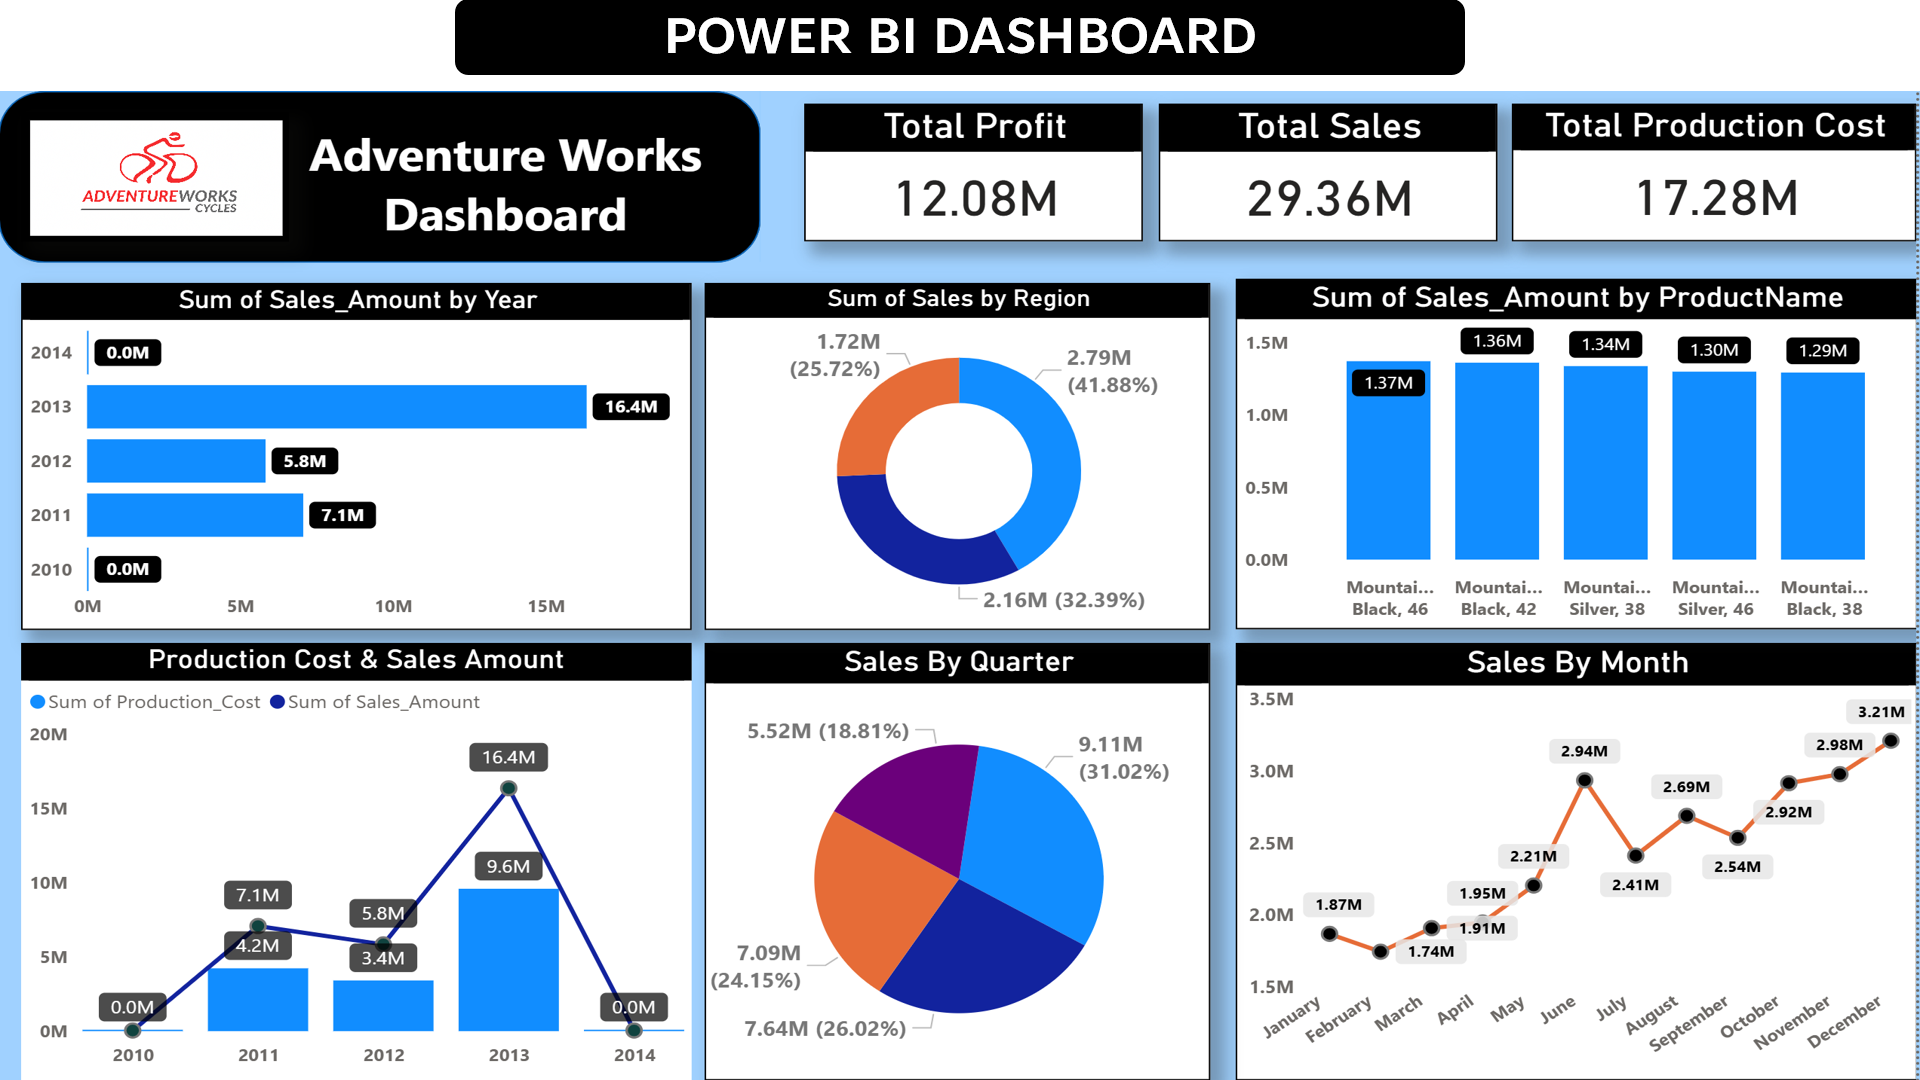

The dashboard page shown, as its layout file describes it:
{"tool":"tableau","page":{"name":"Dashboard 1","canvas":[1000,1000],"units":"permille","ordinal":0},"visuals":[{"type":"text","box":[5.4,13.7,989.1,73.7]},{"type":"text","box":[774.4,26.2,160.4,49.9]},{"type":"image","param":"Image/ChatGPT Image Oct 26, 2025, 05_07_09 PM.png","box":[7.9,93.6,114.1,157.3]},{"type":"worksheet","title":"Q12.Kpi Cards","mark":"Automatic","box":[126.1,94.9,865.4,156.1]},{"type":"worksheet","title":"Q8.Bar Chart","mark":"Bar","rows":["Year"],"cols":["SalesAmount"],"box":[7.4,260.9,333.1,348.3]},{"type":"worksheet","title":"Q11.Bar & Line","mark":"Automatic","rows":["Productioncost","SalesAmount"],"cols":["Year"],"box":[344.8,260.9,320.8,348.3]},{"type":"worksheet","title":" .By Products","mark":"Square","rows":["EnglishProductName"],"box":[669.9,260.9,162.3,345.8]},{"type":"worksheet","title":".By Customers","mark":"Square","rows":["CustomerFullName"],"box":[835.9,260.9,154.9,343.3]},{"type":"worksheet","title":"Q10.Pie Chart","mark":"Pie","box":[781.8,615.5,205.3,369.5]},{"type":"worksheet","title":".By Region","mark":"Automatic","box":[439.5,619.2,338.1,364.5]},{"type":"worksheet","title":"Q9.Line Chart","mark":"Line","rows":["SalesAmount"],"cols":["Monthfullname"],"box":[6.2,621.7,428.4,360.8]}]}

Visuals, with their boxes on the dashboard's canvas, which has no fixed pixel size, in thousandths of its width and height (x1, y1, x2, y2). These are canvas units, not pixel positions in the 1920x1080 screenshot, which may show the page scaled, cropped or inside an application window:
text: 5 14 994 87
text: 774 26 935 76
image: 8 94 122 251
"Q12.Kpi Cards" worksheet: 126 95 992 251
"Q8.Bar Chart" worksheet (Bar marks): 7 261 340 609
"Q11.Bar & Line" worksheet: 345 261 666 609
" .By Products" worksheet (Square marks): 670 261 832 607
".By Customers" worksheet (Square marks): 836 261 991 604
"Q10.Pie Chart" worksheet (Pie marks): 782 616 987 985
".By Region" worksheet: 440 619 778 984
"Q9.Line Chart" worksheet (Line marks): 6 622 435 982
